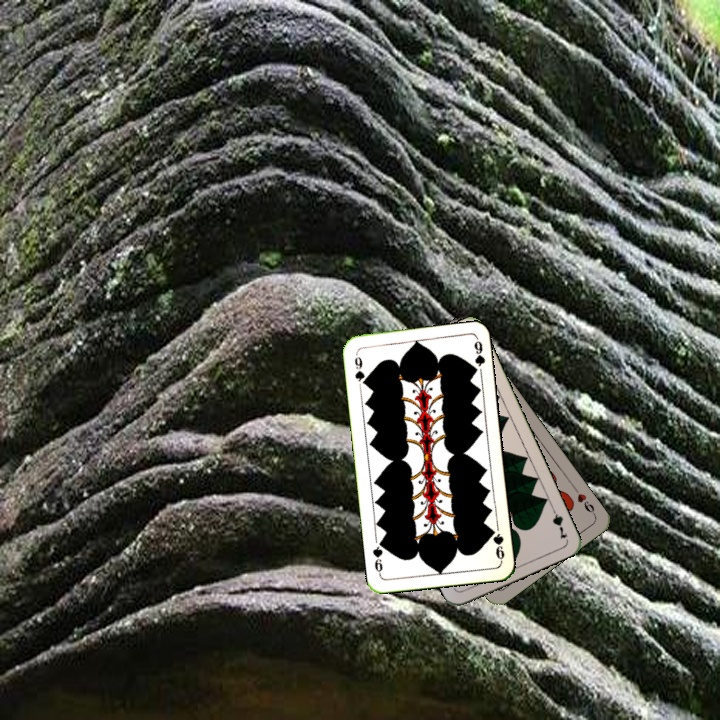G7: (547, 502, 570, 542)
G9: (486, 524, 507, 564), (350, 349, 369, 388)
H9: (569, 483, 598, 518)
